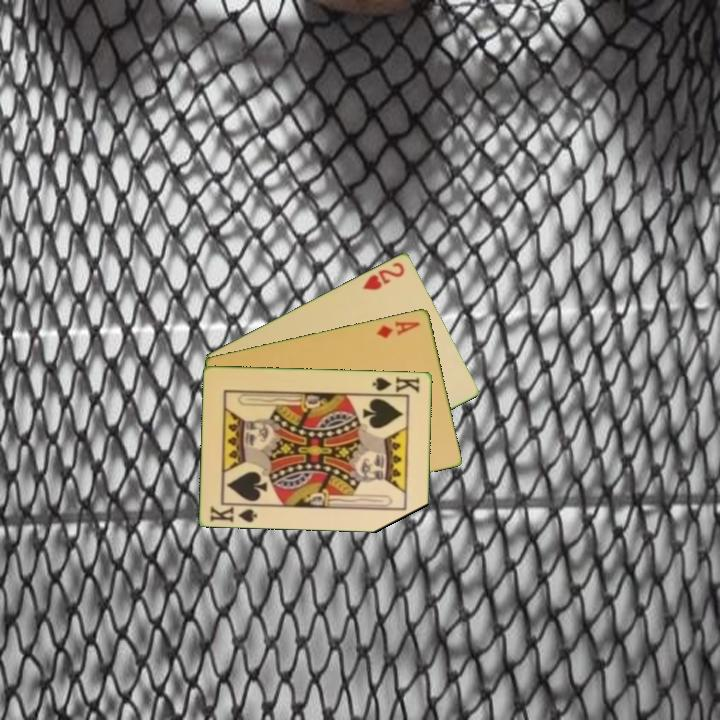2h: (359, 258, 408, 293)
Ad: (373, 317, 423, 341)
Ks: (207, 500, 262, 525), (369, 373, 422, 397)
